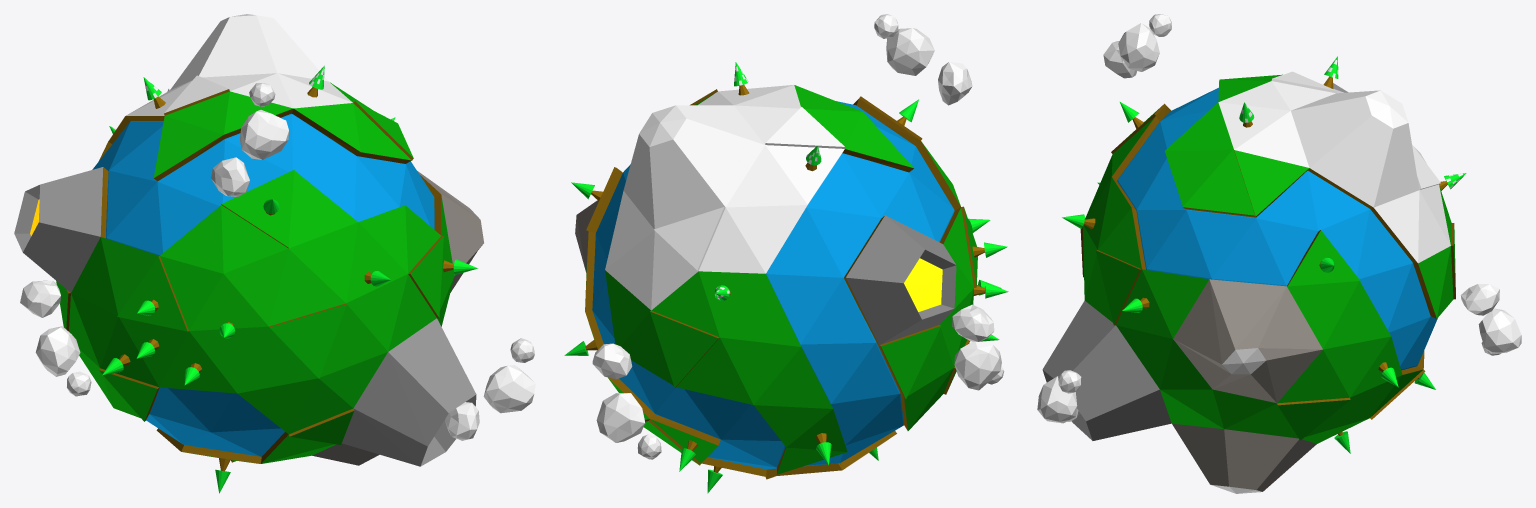
The model's file is planet_one.glb.
3 renders of one model, left to right at view 1: azimuth 30°, elevation 25°; view 2: azimuth 150°, elevation 25°; view 3: azimuth 270°, elevation 25°, orthographic. The views are drawn at different scales.
Parts seen in each view (by area): view 1: land-Land, sea, land-volc rock (×2), land-Snow, Sphere (×3), land-Dirt (×3), Sphere.2 (×3), land-Rock (×2); view 2: sea, land-Land, land-Snow, land-volc rock, land-Dirt (×2), Sphere (×3), Sphere.2 (×3), lava, Sphere.1 (×2), land-Rock; view 3: land-Land, sea, land-Snow (×2), land-Rock (×2), land-volc rock, Sphere (×3), land-Dirt (×2), Sphere.2 (×2).
Part boxes in pixels (x1,y1,x2,y2): land-Land: (56, 82, 454, 463); sea: (92, 114, 434, 456); land-volc rock (×2): (14, 167, 476, 466); land-Snow: (126, 14, 352, 115); Sphere (×3): (35, 110, 535, 413); land-Dirt (×3): (66, 89, 443, 463); Sphere.2 (×3): (20, 157, 479, 440); land-Rock (×2): (312, 171, 483, 465); sea: (592, 101, 954, 469); land-Land: (585, 85, 977, 474); land-Snow: (605, 85, 844, 310); land-volc rock: (845, 215, 956, 344); land-Dirt (×2): (585, 89, 976, 479); Sphere (×3): (596, 28, 1001, 442); Sphere.2 (×3): (592, 62, 994, 379); lava: (904, 258, 942, 311); Sphere.1 (×2): (637, 14, 898, 459); land-Rock: (575, 200, 598, 272); land-Land: (1083, 74, 1455, 443); sea: (1117, 87, 1437, 370); land-Snow (×2): (1218, 71, 1450, 374); land-Rock (×2): (1172, 279, 1322, 491); land-volc rock: (1042, 300, 1171, 440); Sphere (×3): (1037, 23, 1521, 423); land-Dirt (×2): (1080, 103, 1455, 419); Sphere.2 (×2): (1103, 40, 1499, 315).
Bounding box in the file's own units: 41.14 × 40.19 × 42.26.
